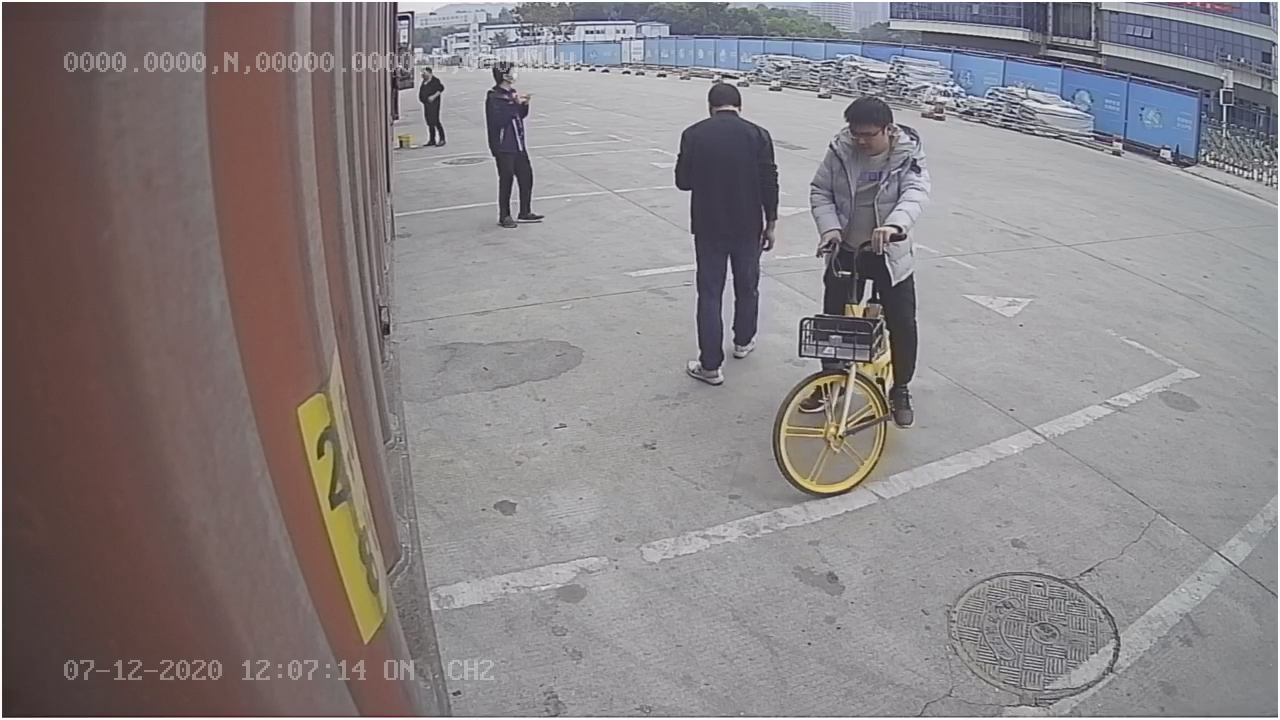person: (674, 74, 781, 387)
